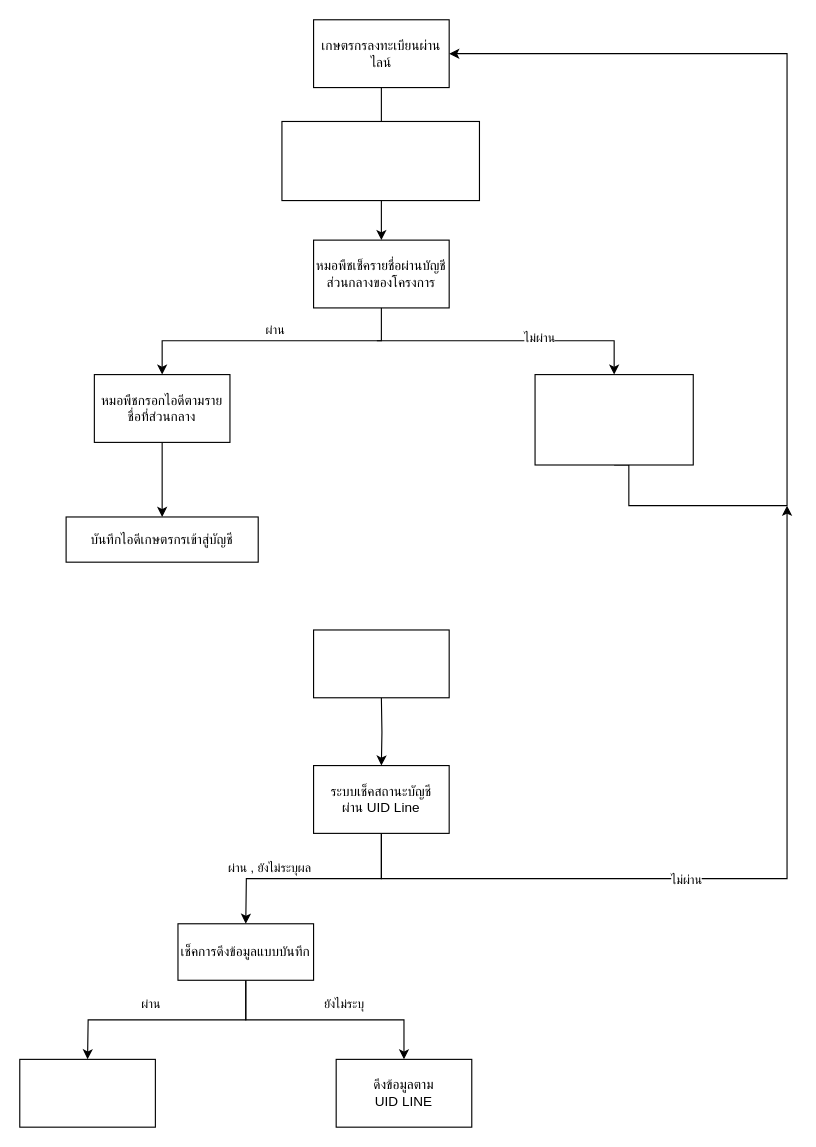
This 816x1147 diagram has some shape labels left out. Here are the shapes that lost their labels. From the top down, the centre of each, then its label:
point (380, 160): ระบบบันทึก UID ไลน์เข้าสู่บัญชี โดยระหว่างนี้เกษตรกรสามารถบันทึกข้อมูลได้
point (613, 419): ตัดการเชื่อมต่อบัญชีไลน์กับระบบ เพื่อไม่ให้สามารถเข้าใช้งานระบบ
point (380, 663): เกษตรกรเข้าใช้งานระบบ
point (87, 1092): ดึงข้อมูลตามไอดีเกษตรกร
